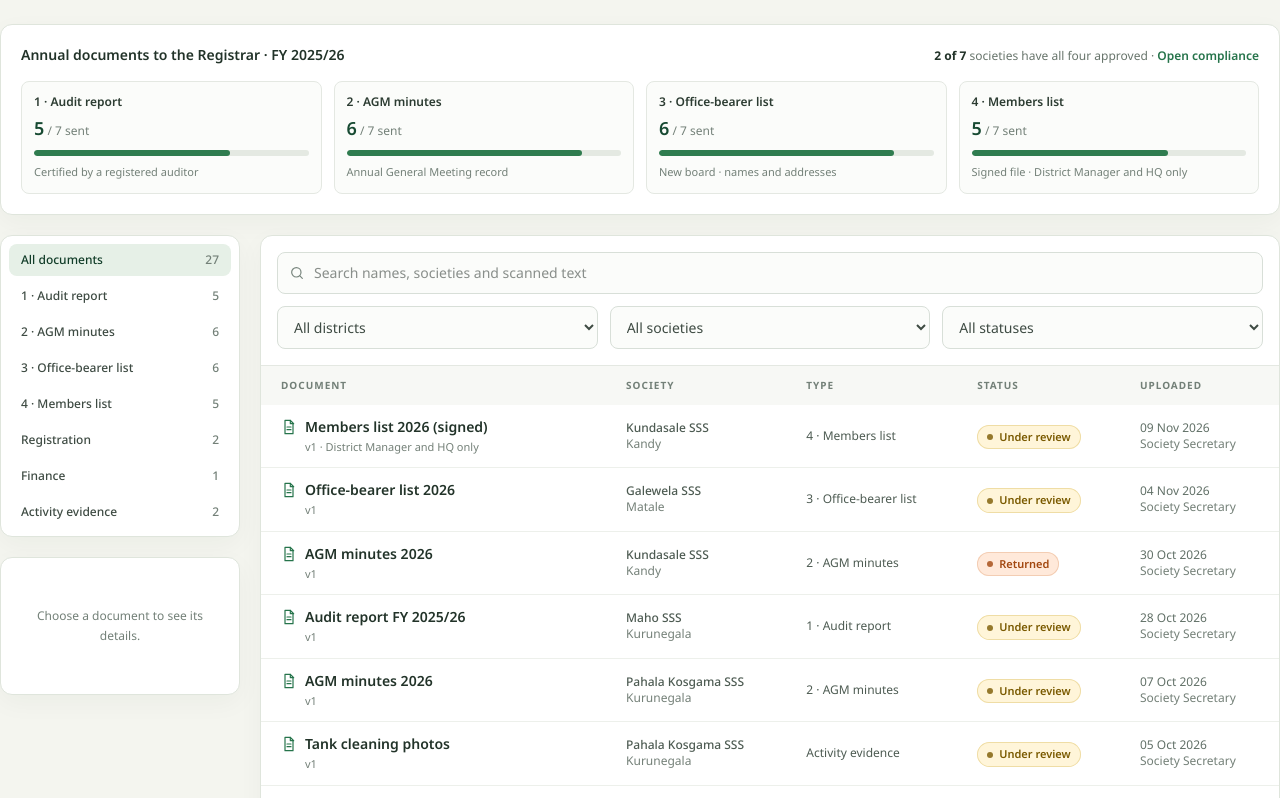
Scenario: DocumentLibrary › shows the active filters when nothing matches and clears them
Type "cyclone" into the search field named "Search documents" at (770, 272), box top-left (277, 252), bottom-right (1263, 294)
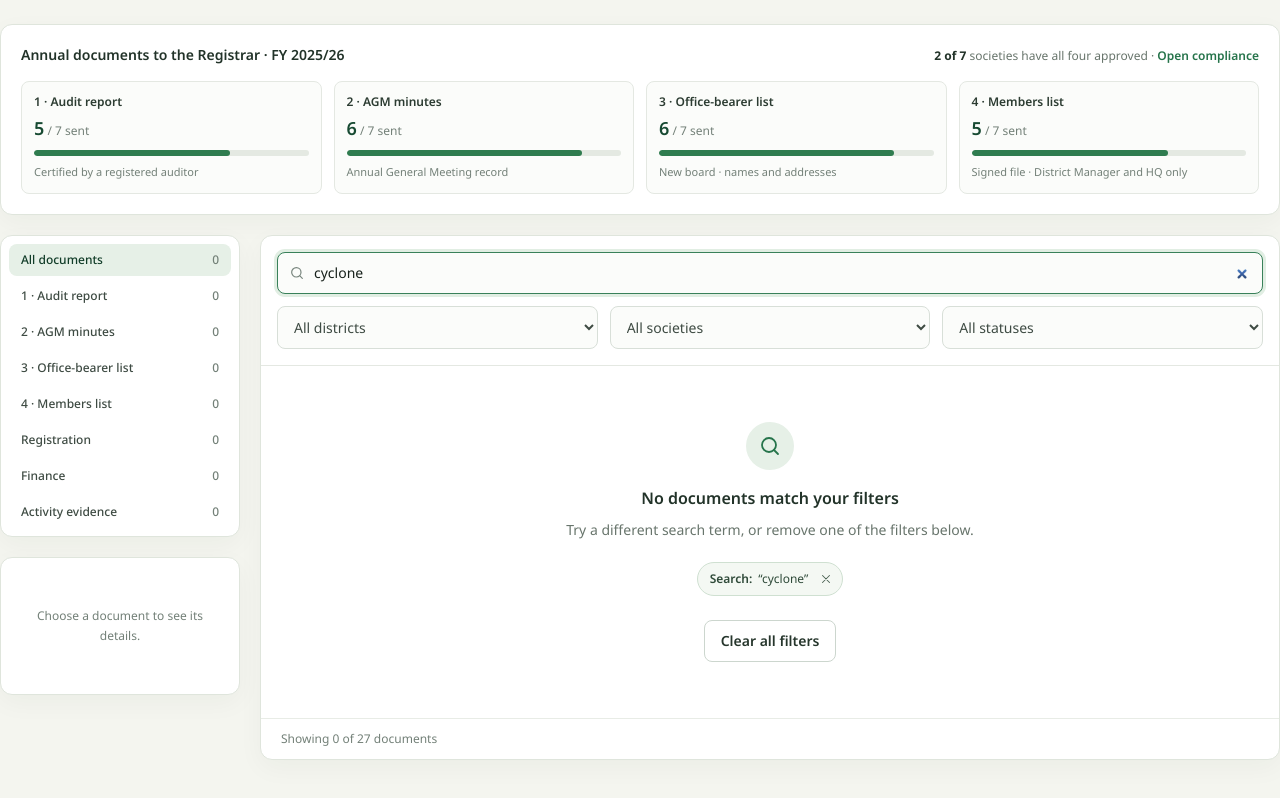
Expected: the heading "No documents match your filters" is shown, top-left (641, 486), bottom-right (899, 510)
Click the button "Clear all filters" at (770, 640), box top-left (704, 620), bottom-right (836, 662)
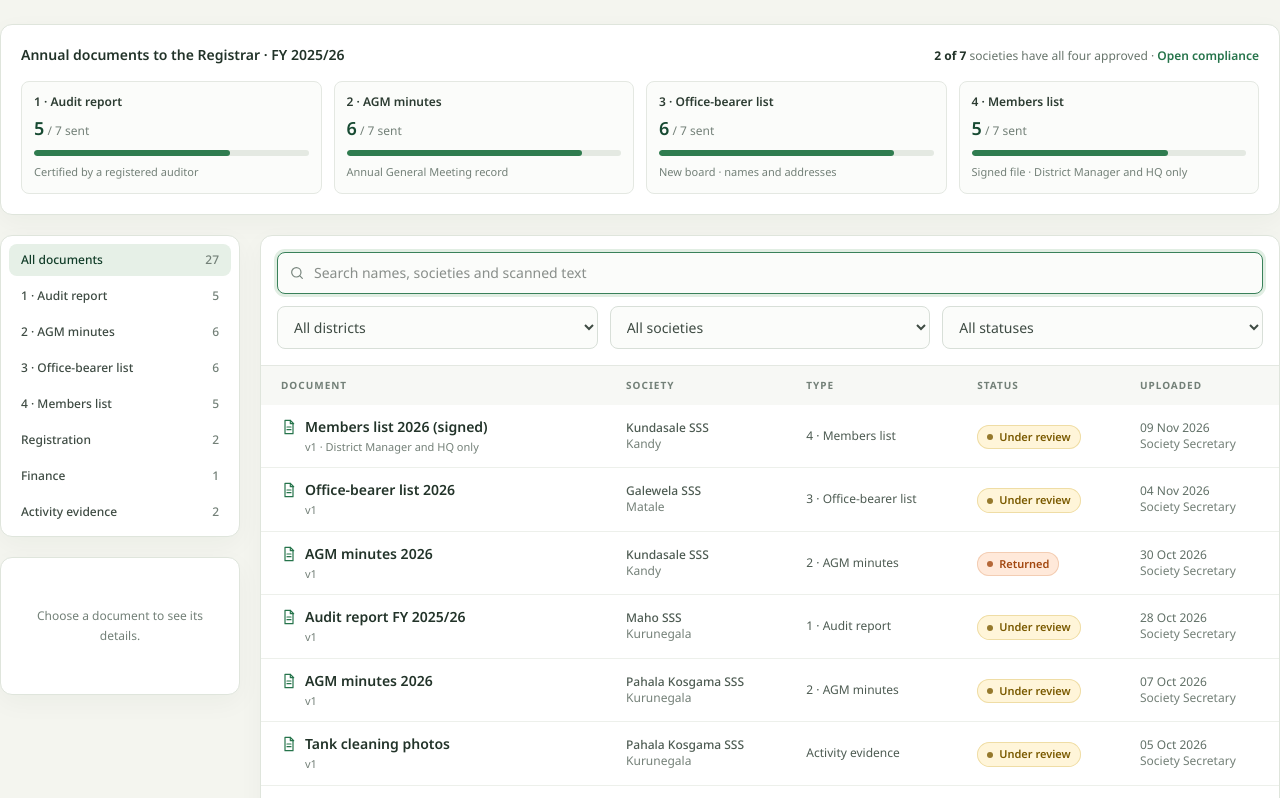
Expected: the number of buttons named "Preview " is 27
